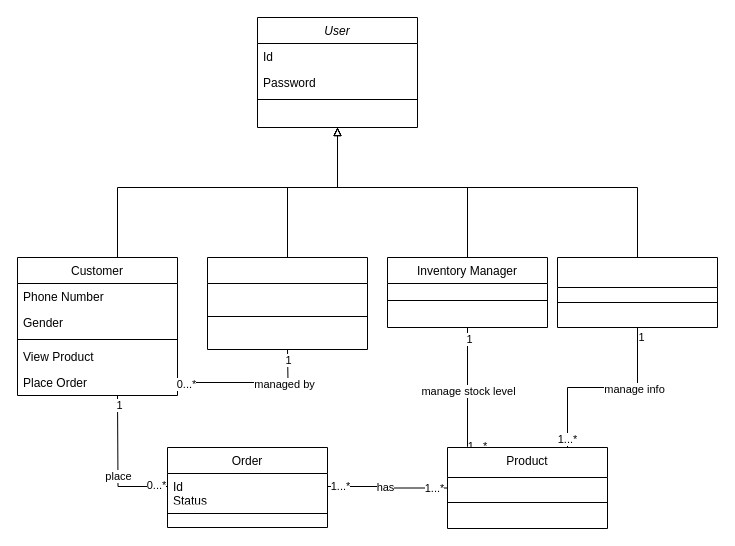
The diagram is 735 pixels wide and 546 high, and some of its shapes have lost their labels. Here are the shapes that lost their labels. From the top down, the centre of each, then its label:
[287,303]: System Admin
[637,292]: Seller
